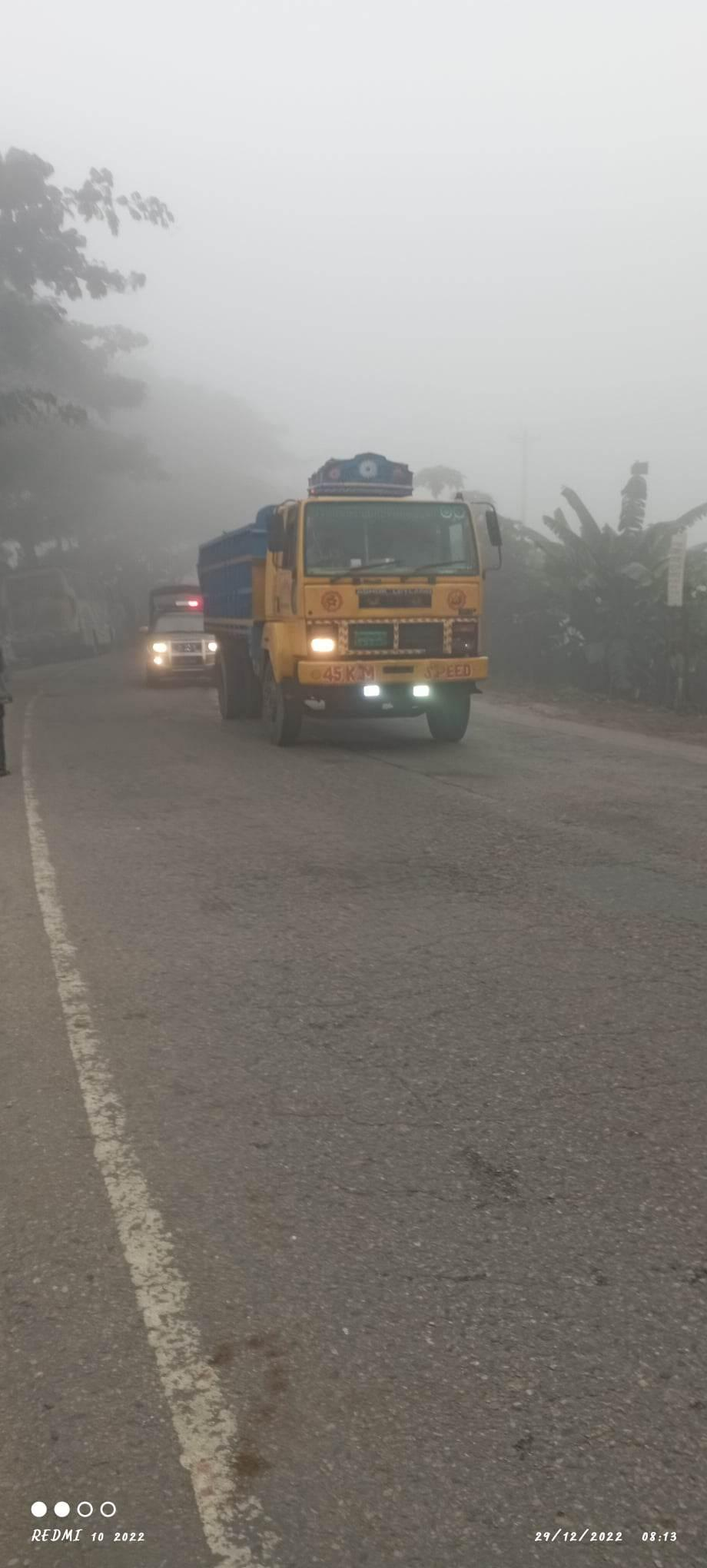Truck: (197, 429, 529, 772), (128, 555, 222, 706)
